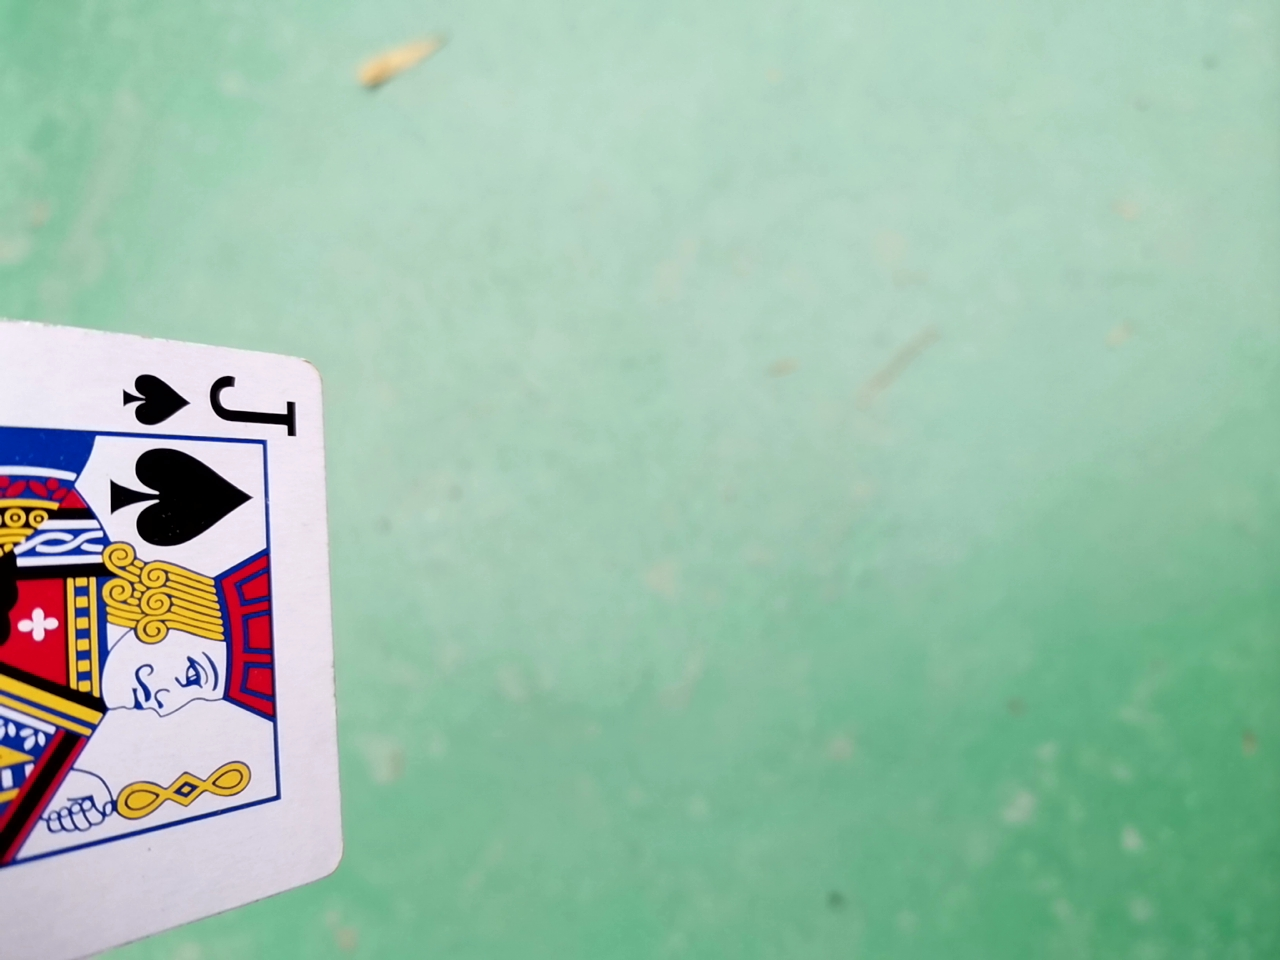ht j: (1, 282, 329, 960)
